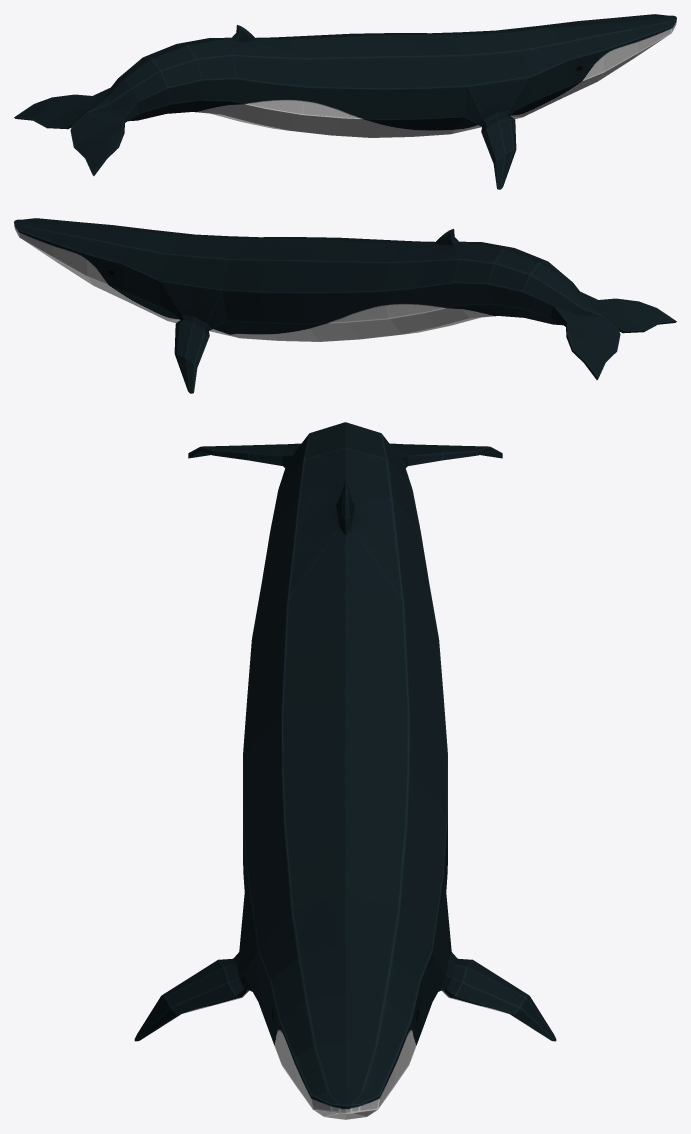
Rendered from blue-whale.glb.
3 renders of one model, top to bottom at view 1: azimuth 30°, elevation 25°; view 2: azimuth 150°, elevation 25°; view 3: azimuth 270°, elevation 25°, orthographic. The views are drawn at different scales.
Visible parts, largest first — view 1: blue-whale-oriented; view 2: blue-whale-oriented; view 3: blue-whale-oriented.
Boxes of the visible parts, box(x1,y1,x2,y2) form: blue-whale-oriented: box(14, 14, 676, 189); blue-whale-oriented: box(14, 218, 676, 393); blue-whale-oriented: box(134, 422, 556, 1119).
Size of the model in its own units: 1 by 0.2732 by 0.2933.
Materials: 1 (1 with a texture image).
